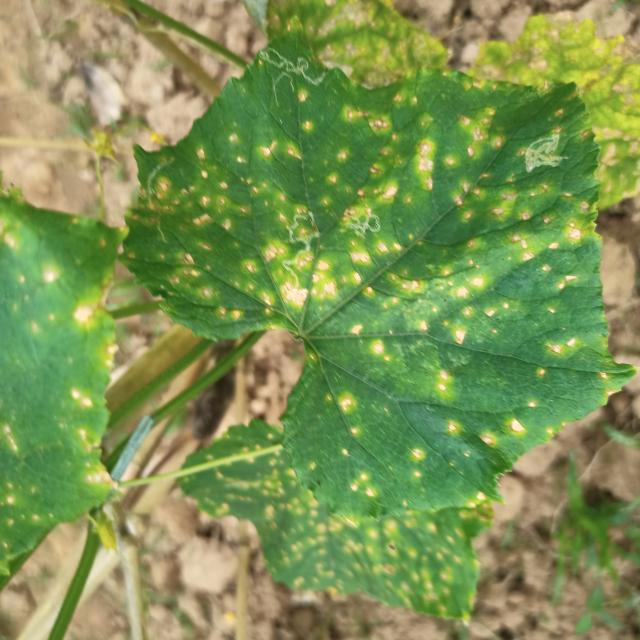disease_cucumber: (134, 56, 612, 356), (65, 378, 112, 491), (478, 416, 531, 448), (336, 388, 360, 437), (65, 294, 97, 330), (0, 210, 19, 255), (352, 467, 376, 498), (432, 362, 452, 394), (367, 337, 391, 362), (40, 262, 63, 285), (412, 443, 424, 481), (438, 422, 461, 436)
